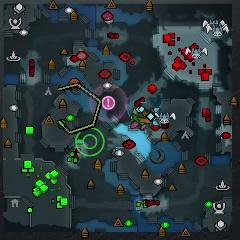x1: (129, 122, 146, 130)
x2: (133, 108, 139, 117)
x3: (152, 108, 160, 125)
x4: (132, 113, 143, 125)
x5: (138, 111, 152, 123)
